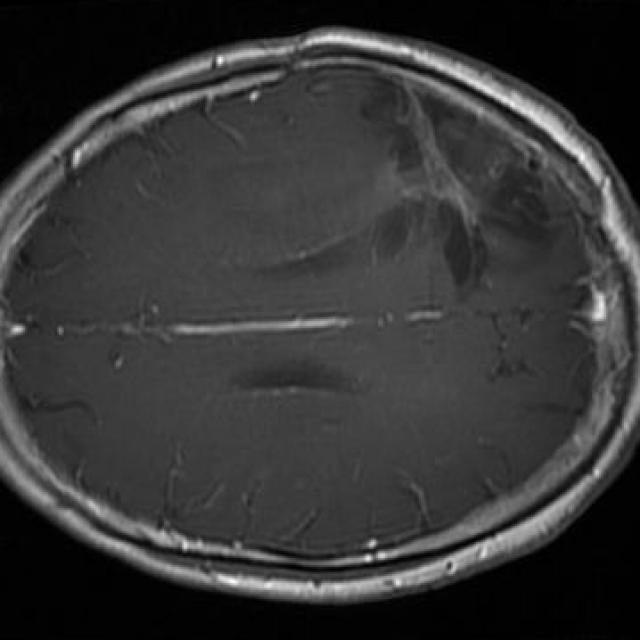glioma: (360, 80, 572, 287)
